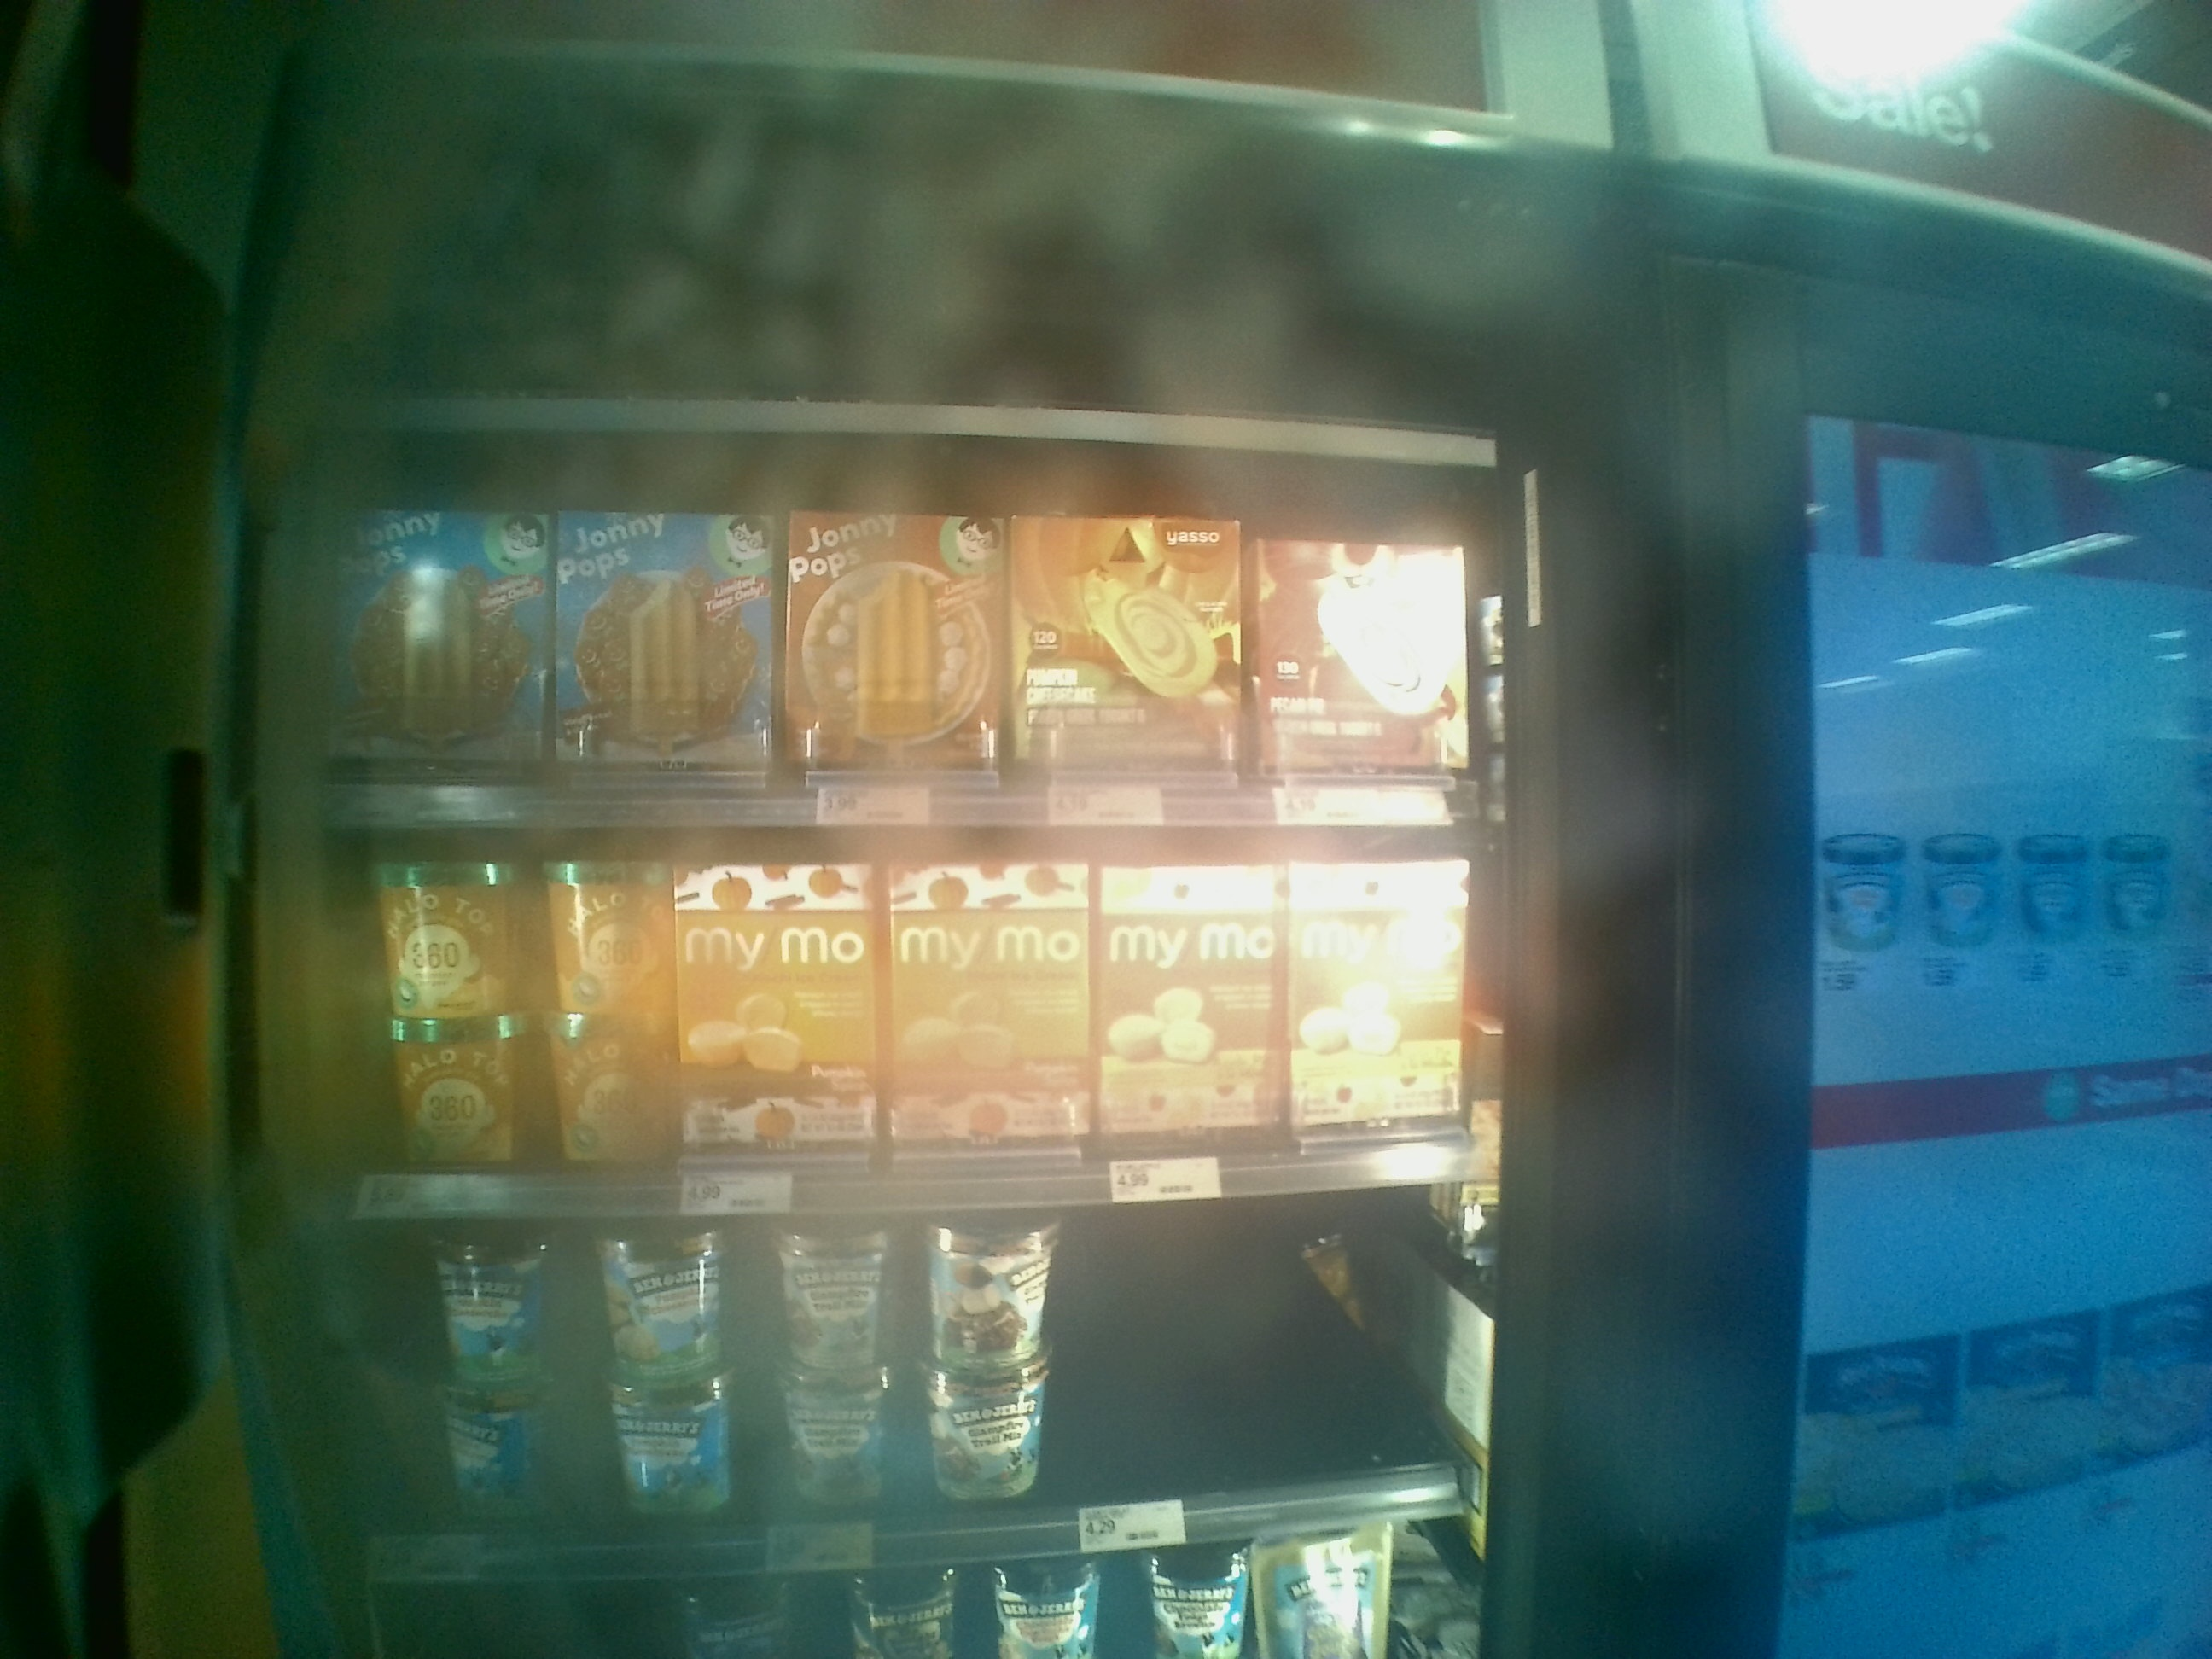shelf: (298, 418, 1486, 838), (284, 816, 1475, 1204), (270, 1197, 1465, 1528)
